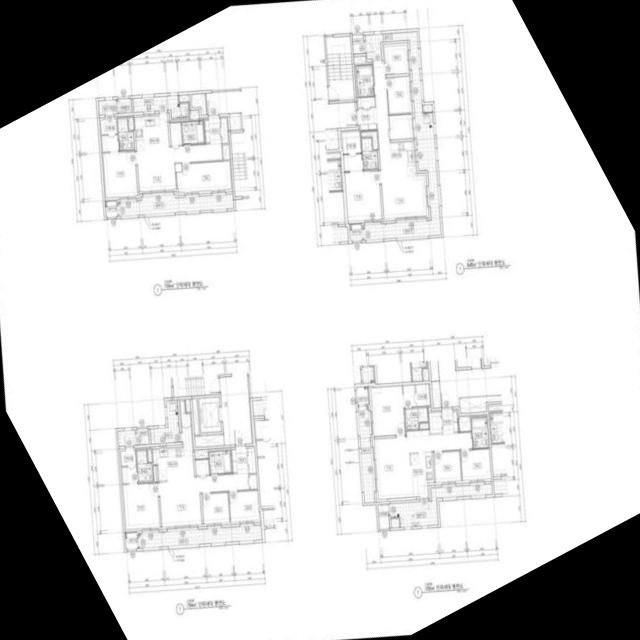background: (0, 0, 640, 640)
space_balconi: (362, 31, 441, 240), (389, 483, 492, 527), (138, 525, 262, 548), (117, 194, 234, 216), (357, 405, 375, 502), (149, 400, 179, 444), (132, 95, 189, 118), (98, 99, 116, 115)
space_bedroom: (344, 170, 381, 221), (370, 385, 405, 436), (176, 160, 231, 192), (123, 482, 160, 529), (103, 151, 137, 197), (228, 490, 259, 522), (460, 449, 491, 480), (386, 76, 411, 114), (202, 492, 229, 524), (434, 451, 461, 482), (384, 45, 408, 74)
space_dressroom: (341, 131, 362, 171), (100, 116, 118, 152), (403, 384, 429, 407), (120, 448, 137, 483)
space_elevator: (198, 397, 221, 433)
space_elevator_hall: (220, 375, 252, 445)
space_front: (204, 115, 228, 144), (356, 107, 377, 131), (231, 445, 248, 474), (441, 408, 458, 434)
space_kitchen: (152, 401, 194, 479), (134, 112, 169, 149), (409, 451, 434, 497), (390, 141, 415, 177)
space_living_room: (373, 62, 427, 218), (374, 429, 472, 499), (159, 473, 249, 527), (136, 143, 222, 191)
space_other: (117, 428, 149, 446), (389, 114, 412, 139), (194, 434, 224, 447), (191, 93, 206, 115), (361, 131, 378, 149), (428, 412, 442, 433), (170, 122, 182, 145), (378, 504, 389, 529), (192, 398, 199, 434), (352, 34, 364, 54), (247, 447, 256, 473), (195, 459, 209, 475), (117, 98, 131, 113), (357, 96, 375, 107), (229, 113, 240, 130), (458, 417, 471, 431), (249, 474, 257, 489), (194, 450, 208, 458), (222, 144, 229, 159), (390, 518, 399, 528), (189, 111, 198, 120), (179, 94, 189, 102), (353, 56, 366, 62), (423, 104, 432, 112), (147, 449, 152, 462), (153, 466, 157, 481), (128, 118, 133, 130), (185, 400, 190, 412), (419, 423, 428, 429)
space_outdoor_room: (356, 386, 369, 405), (349, 224, 362, 241), (105, 200, 117, 217)
space_staircase: (325, 35, 354, 101)
space_toilet: (361, 137, 378, 170), (471, 417, 489, 448), (356, 65, 374, 96), (181, 120, 204, 144), (117, 118, 134, 150), (136, 450, 153, 482), (404, 407, 428, 429), (209, 450, 231, 474)
